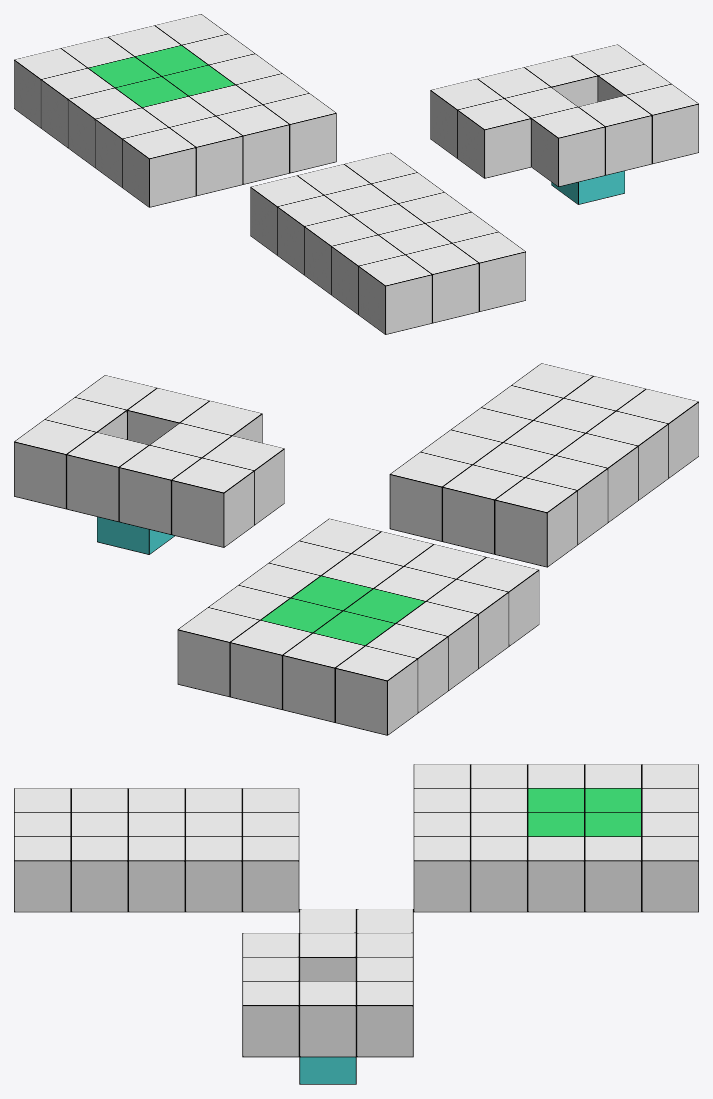
The model's file is stage02.fbx.
3 views of the same model, one above another, from view 1: azimuth 30°, elevation 25°; view 2: azimuth 150°, elevation 25°; view 3: azimuth 270°, elevation 25° (orthographic). The views are drawn at different scales.
Parts seen in each view (by area): view 1: pCube47; view 2: pCube47; view 3: pCube47.
Boxes of the visible parts, x1,y1,x2,y2 form: pCube47: [14, 14, 698, 334]; pCube47: [14, 363, 698, 735]; pCube47: [14, 764, 698, 1084].
Bounding box in the file's own units: 10 × 2 × 12.
3 materials, 3 textured.
